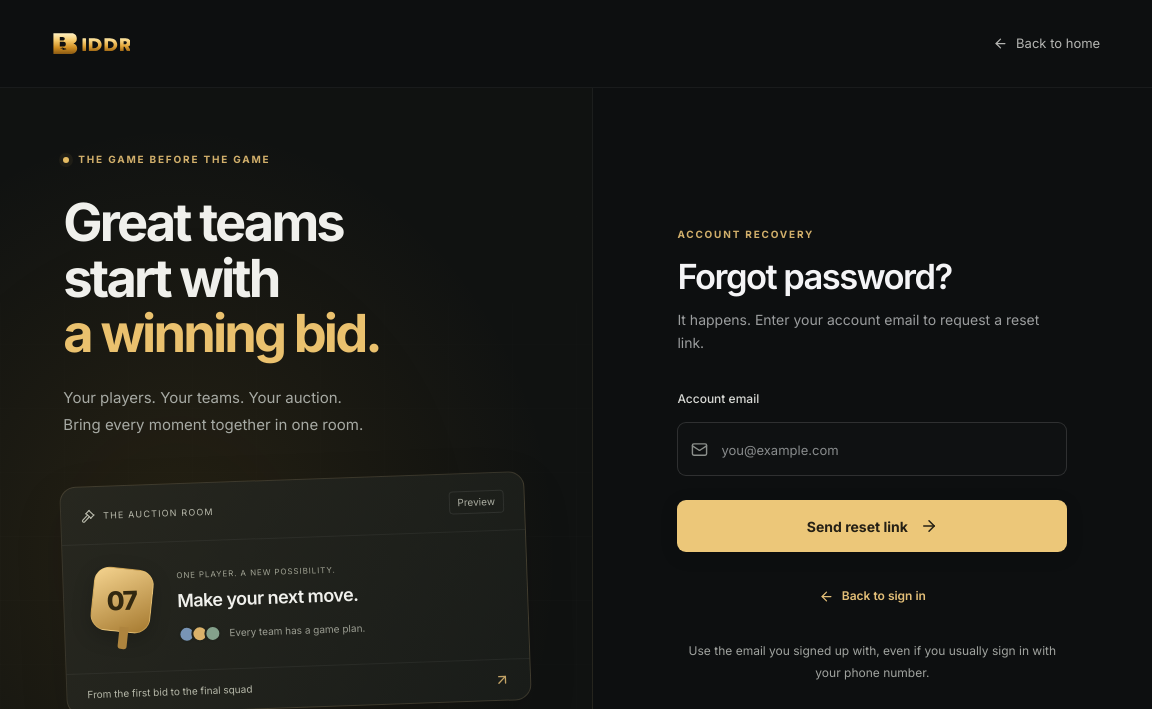
Test: Login page › keeps the email available when requesting a reset link fails
Type "owner@example.com" into the field labelled "Account email".
click(894, 449); type("owner@example.com")  # box top-left (721, 423), bottom-right (1066, 475)
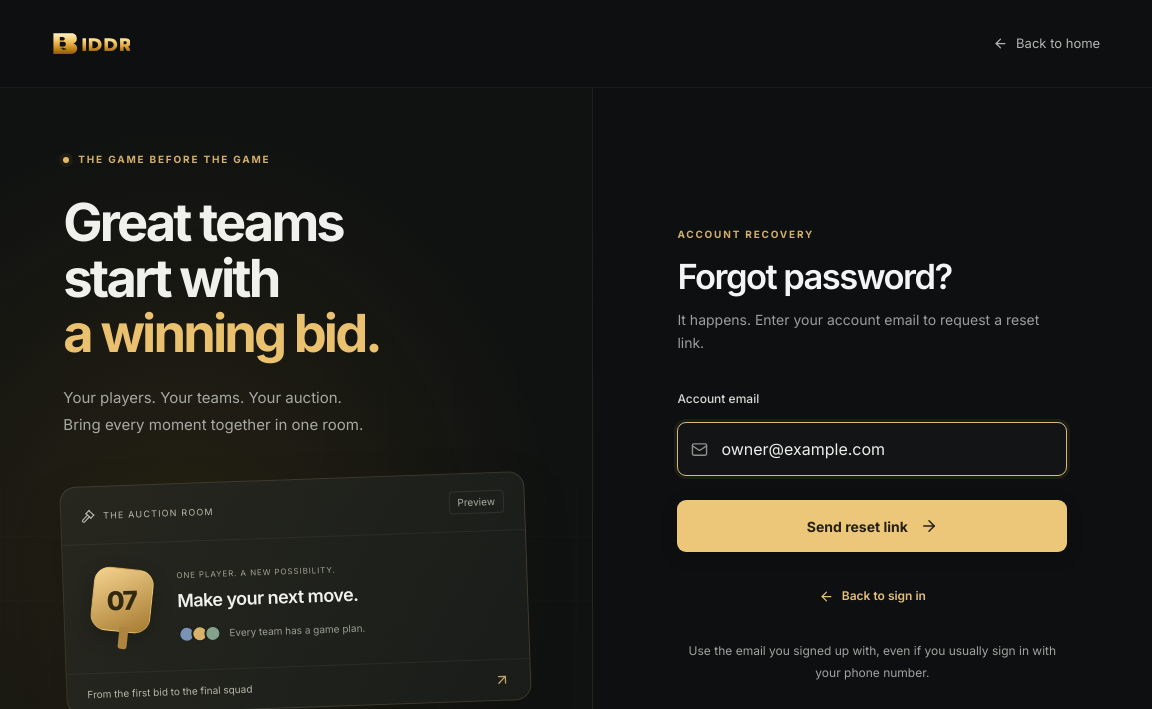
Click the button "Send reset link".
click(872, 526)  # box top-left (677, 500), bottom-right (1067, 552)
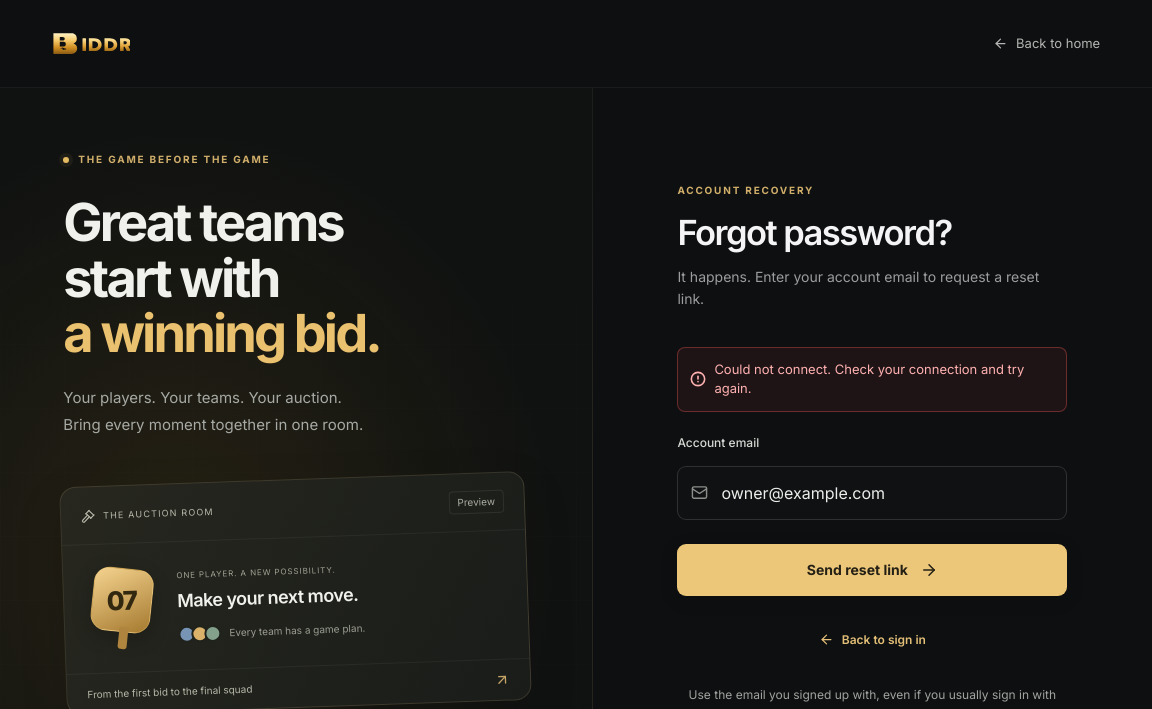
Expected: the button "Send reset link" is enabled, top-left (677, 544), bottom-right (1067, 596)
Now the message reads "Could not connect. Check your connection and try again.", box top-left (714, 361), bottom-right (1024, 396)
